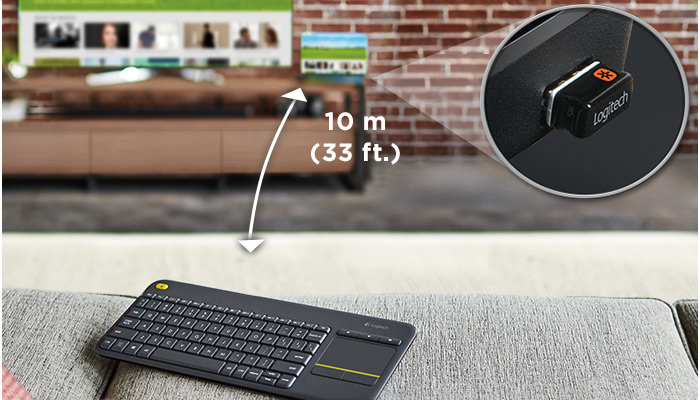logitech-keyboard-k400: (97, 284, 422, 400)
